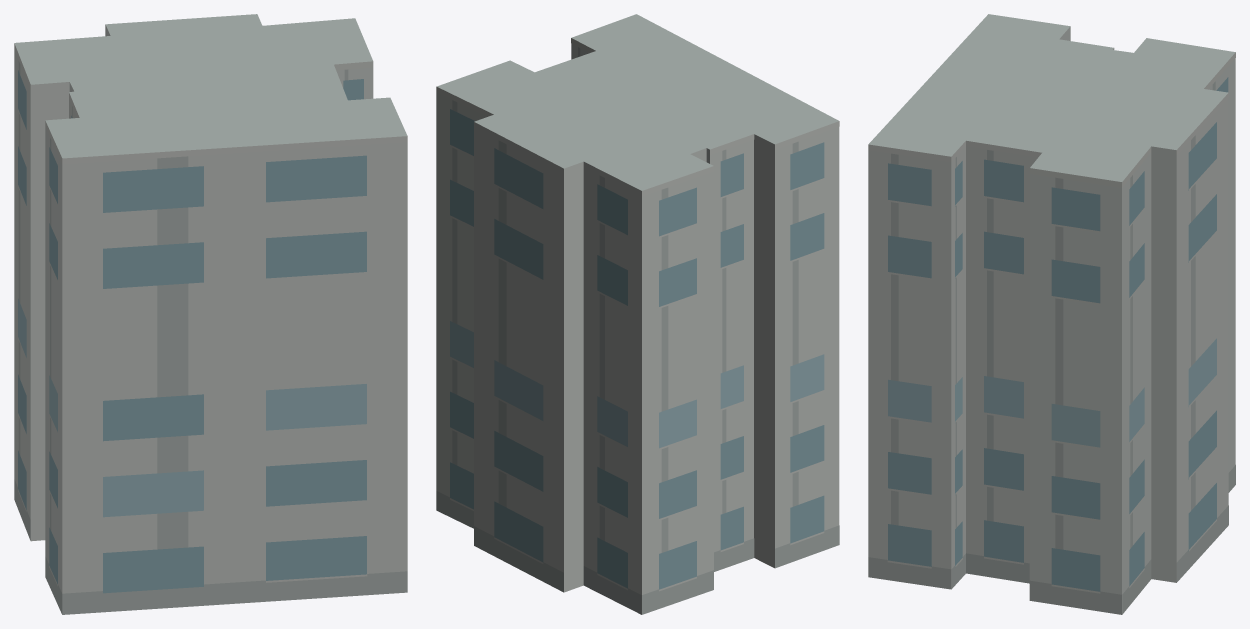
The model's file is survey-upis-32886650.glb.
The picture shows the model from 3 angles, left to right: view 1: azimuth 30°, elevation 25°; view 2: azimuth 150°, elevation 25°; view 3: azimuth 270°, elevation 25°; orthographic projection. The views are drawn at different scales.
Parts seen in each view (by area): view 1: survey-upis-32886650.tmp; view 2: survey-upis-32886650.tmp; view 3: survey-upis-32886650.tmp.
Part boxes in pixels (bbox=[...]): survey-upis-32886650.tmp: bbox=[14, 14, 407, 614]; survey-upis-32886650.tmp: bbox=[436, 14, 839, 614]; survey-upis-32886650.tmp: bbox=[868, 14, 1235, 614].
Size of the model in its own units: 15.26 by 18.3 by 14.09.
